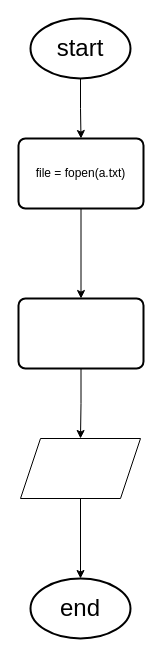
The diagram is 161 pixels wide and 656 high, and some of its shapes have lost their labels. The centre of each missing label's shape, as x and y in pixels:
"output text" belongs at [80,468].
"readfile text = file" belongs at [80,333].
